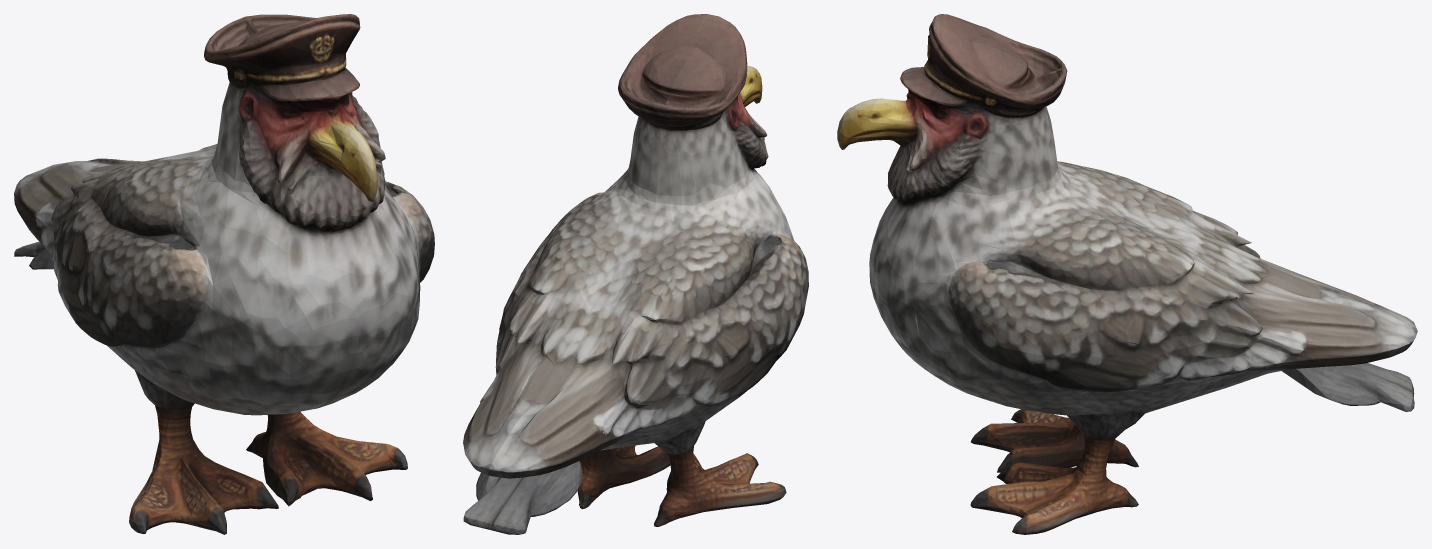
Rendered from gullLord.glb.
3 renders of one model, left to right at view 1: azimuth 30°, elevation 25°; view 2: azimuth 150°, elevation 25°; view 3: azimuth 270°, elevation 25°, orthographic. The views are drawn at different scales.
Parts seen in each view (by area): view 1: world; view 2: world; view 3: world.
Part boxes in pixels (box(x1,y1,x2,y2)): world: box(14, 14, 434, 534); world: box(463, 14, 808, 534); world: box(837, 14, 1417, 534).
Bounding box in the file's own units: 0.5355 × 0.8784 × 0.9956.
1 material, 1 textured.
